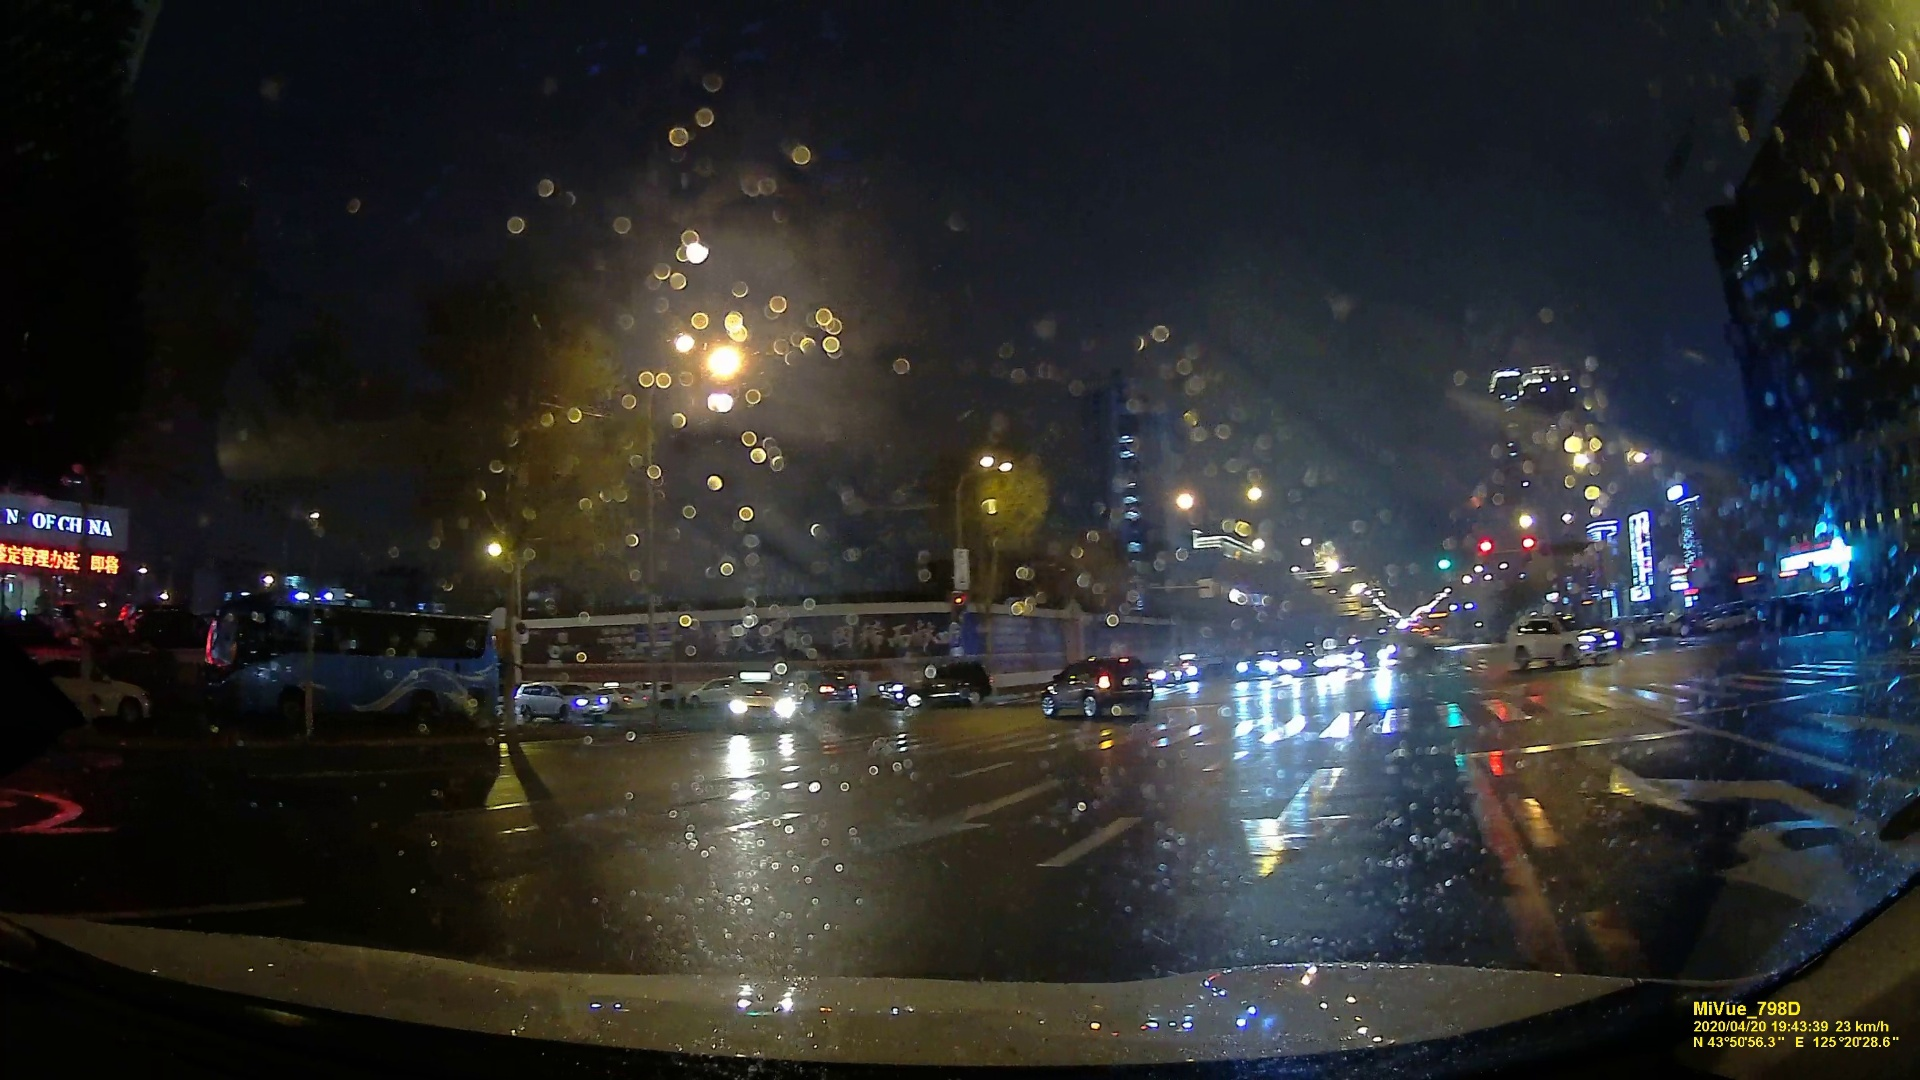traffic_sign: (1520, 534, 1532, 563), (1437, 546, 1451, 571), (1480, 539, 1494, 562), (953, 589, 965, 608)
vehicle: (1042, 654, 1159, 720), (1506, 615, 1619, 670), (877, 659, 990, 707), (516, 680, 608, 724), (724, 679, 791, 735), (800, 669, 858, 713), (1353, 636, 1390, 670), (1237, 650, 1274, 680), (1162, 657, 1197, 682)
